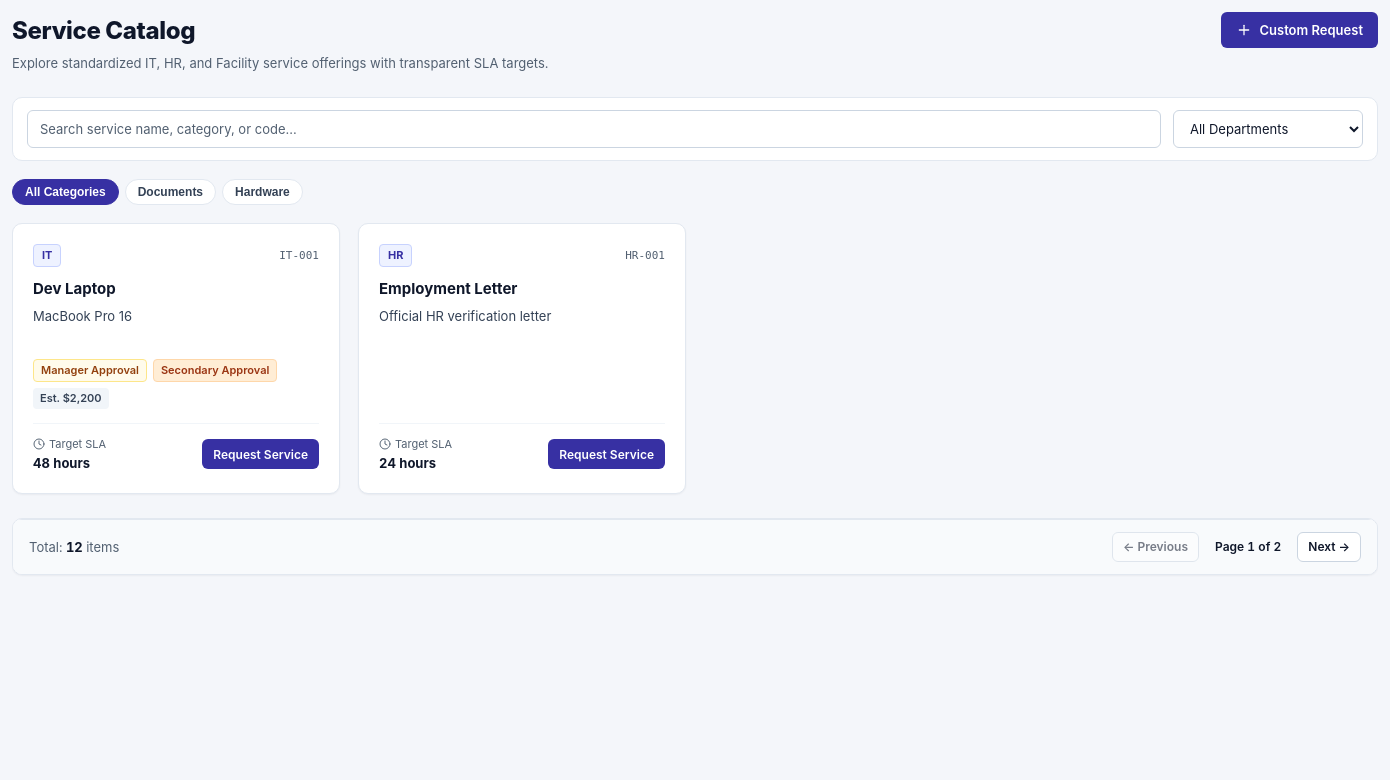
P9.6.1 Critical Frontend Workflow & Branch Coverage Suite › ServiceCatalog, MyTickets & Notifications workflows › ServiceCatalog filters by department/category/search, resets empty state, and blocks guest request
This screenshot has width=1390, height=780.
Expected: the heading "Dev Laptop" is shown, top-left (33, 279), bottom-right (116, 298)
Expected: the text "Manager Approval" is shown, top-left (33, 359), bottom-right (147, 382)
// Category chip filter
Step 1. Click the button "Documents" → (170, 192), box top-left (125, 179), bottom-right (216, 205)
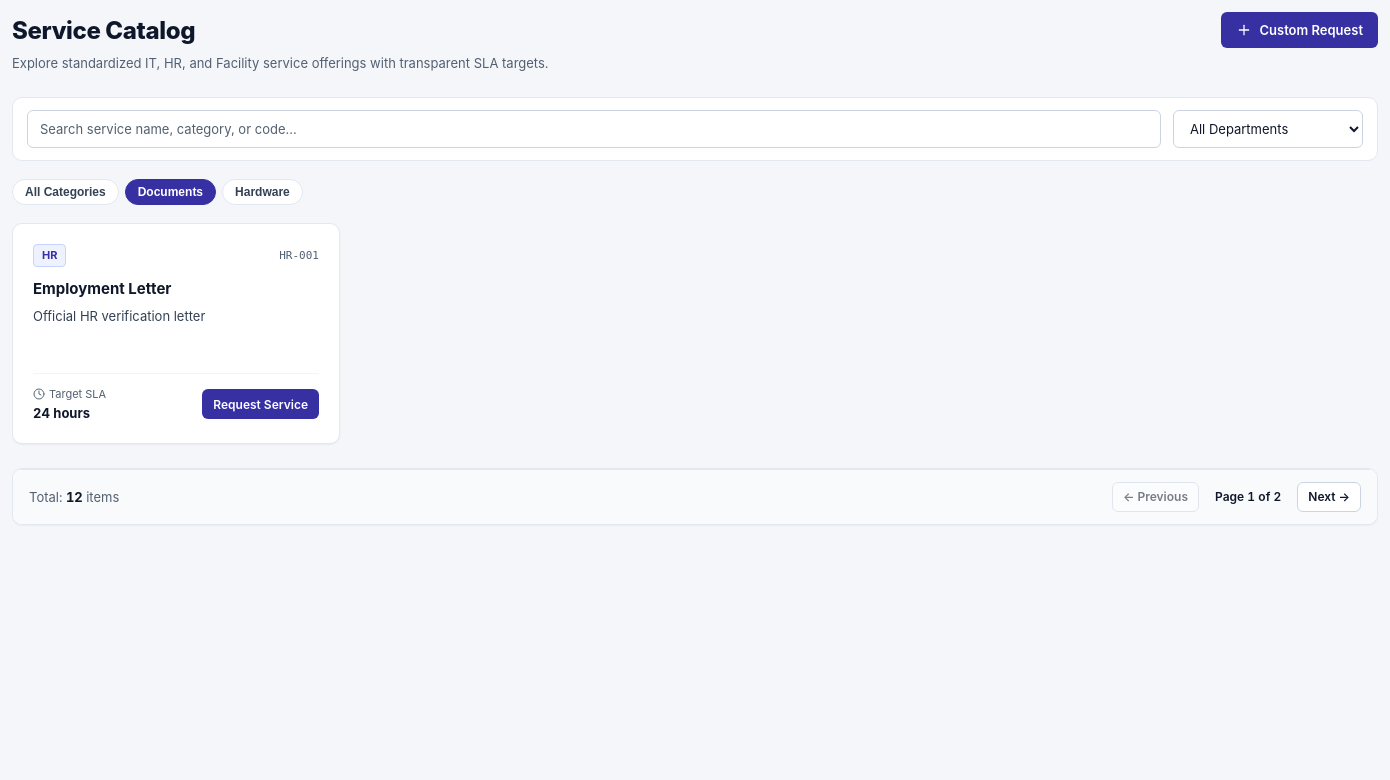
Expected: the heading "Employment Letter" is shown, top-left (33, 279), bottom-right (171, 298)
Expected: the heading "Dev Laptop" is gone
// Search producing empty state + Clear Filters
Step 2. Type "zzzzz" into the search field named "Search service catalog" → (594, 129), box top-left (27, 110), bottom-right (1161, 148)
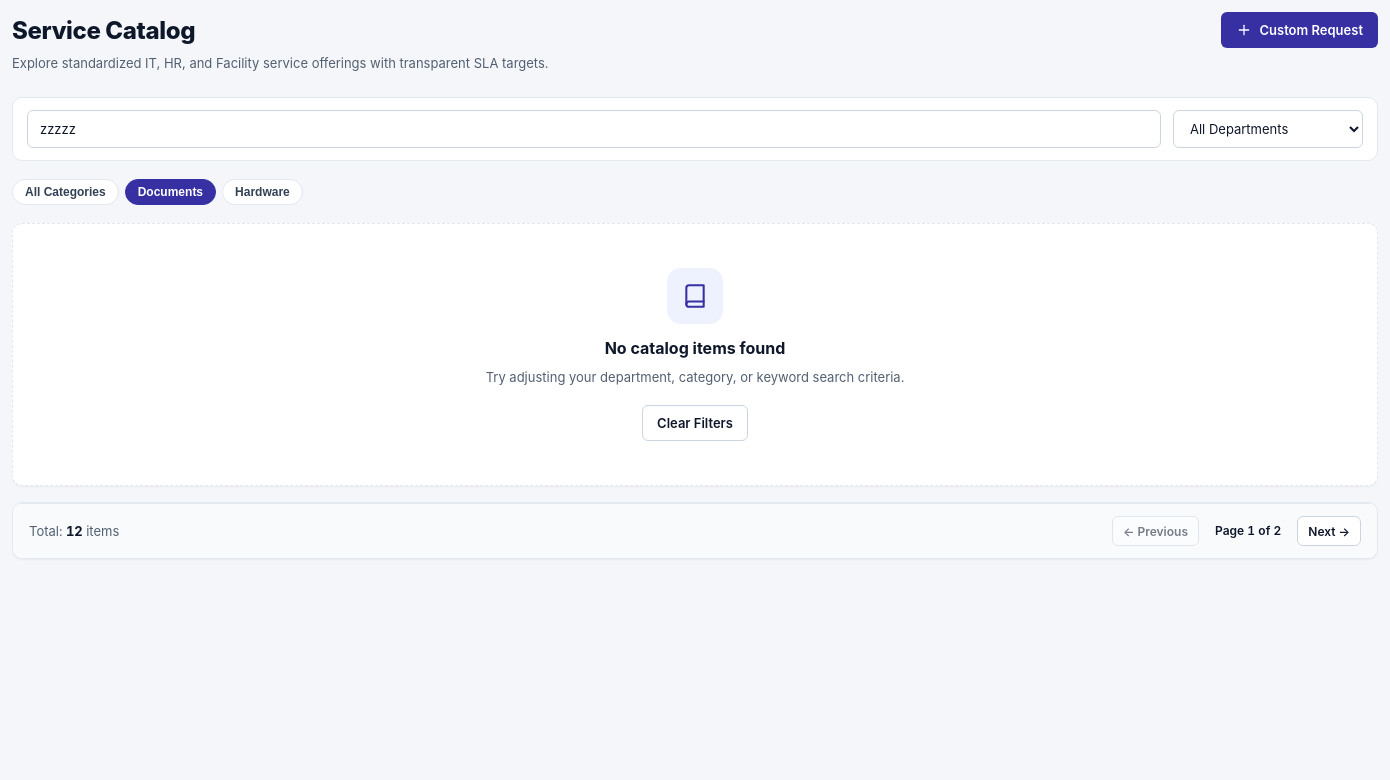
Expected: the heading "No catalog items found" is shown, top-left (605, 338), bottom-right (785, 358)
Step 3. Click the button "Clear Filters" → (695, 423), box top-left (642, 405), bottom-right (748, 441)
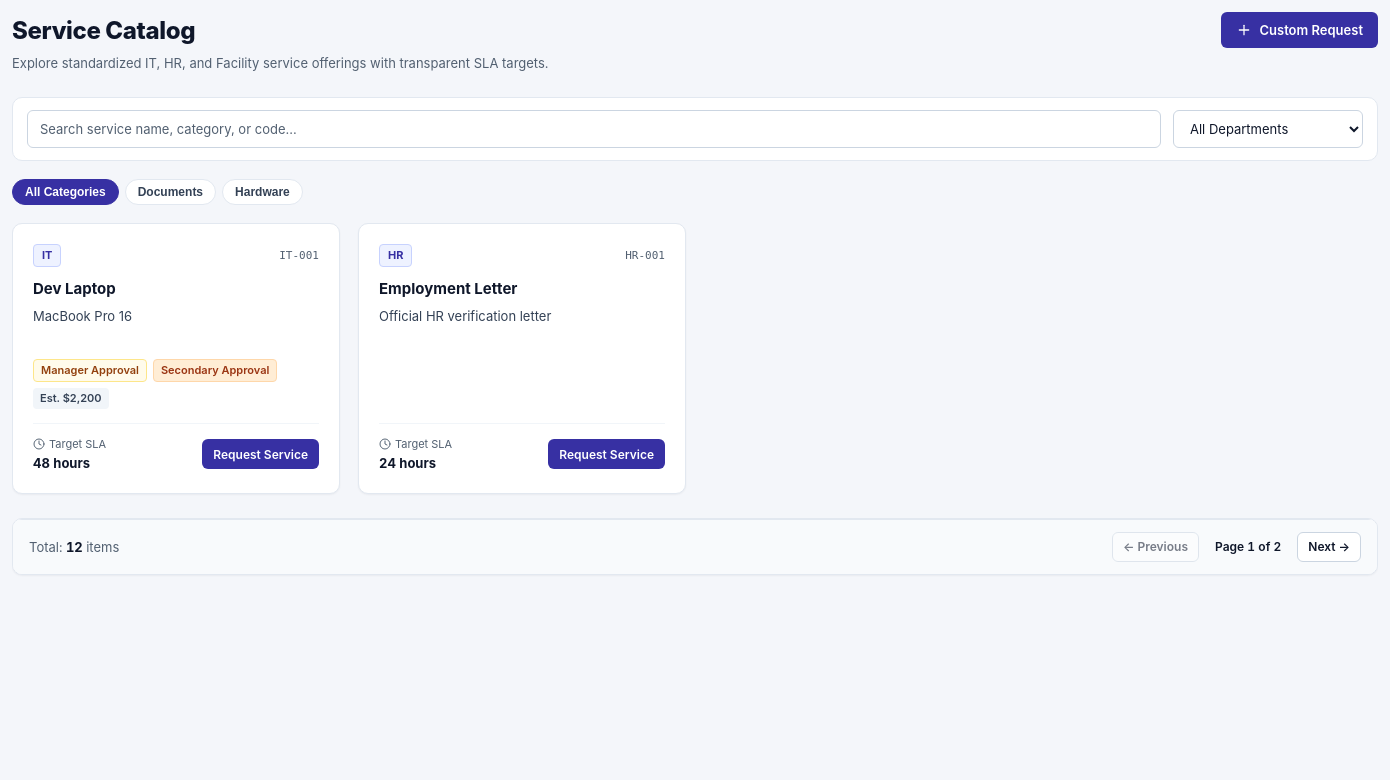
Expected: the heading "Dev Laptop" is shown, top-left (33, 279), bottom-right (116, 298)
// Guest Request Service click shows Authentication Required alert
Step 4. Click the button "Request Service" in the row of "48" → (261, 454), box top-left (202, 439), bottom-right (319, 469)
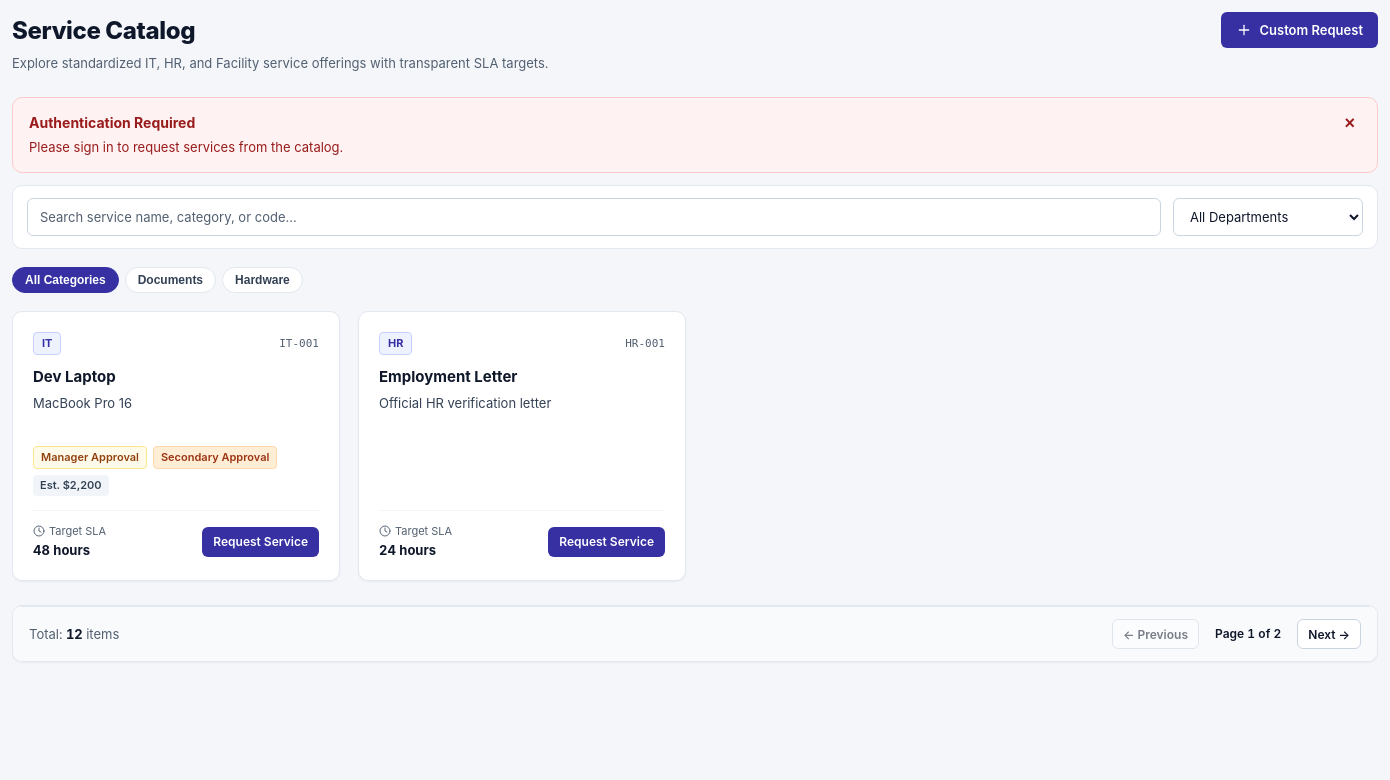
Expected: the text "Please sign in to request services from the catalog." is shown, top-left (29, 138), bottom-right (343, 158)
